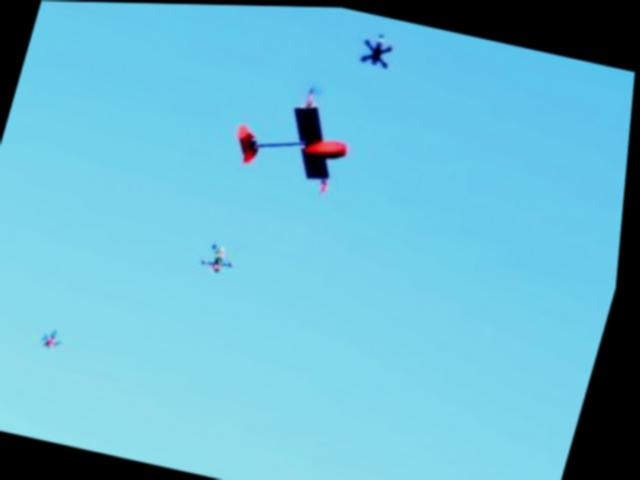uav: (215, 58, 379, 212)
